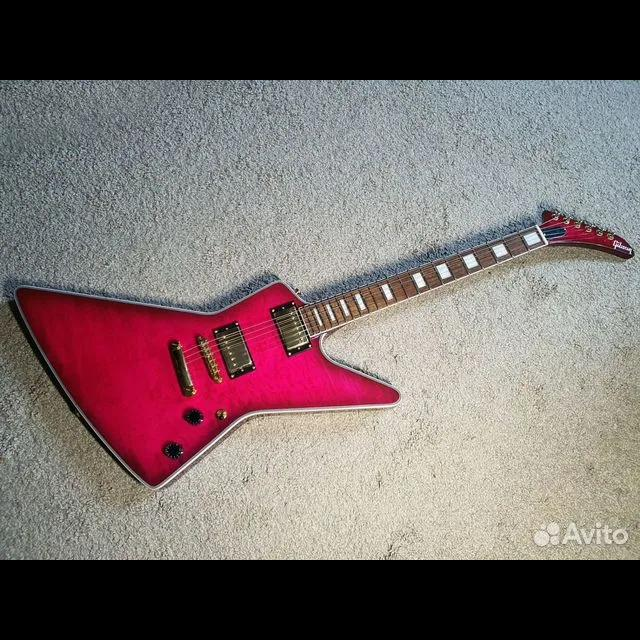Electric-Guitar: (14, 210, 634, 490)
